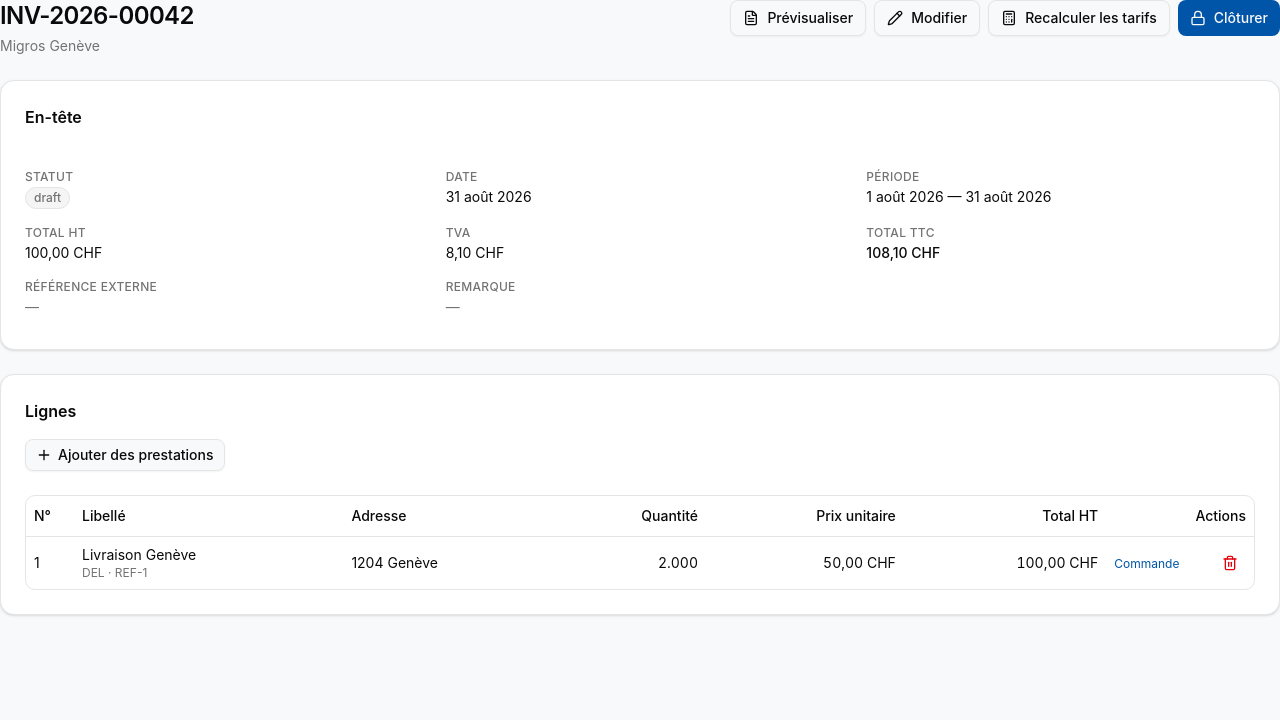
Scenario: clôture › refuse de confirmer une facture que le serveur juge non clôturable
The image size is (1280, 720).
What coordinates should you click on to do the following:
click the button "Clôturer"
I would click on:
 (1229, 18)
Its box is [1178, 0, 1279, 36].
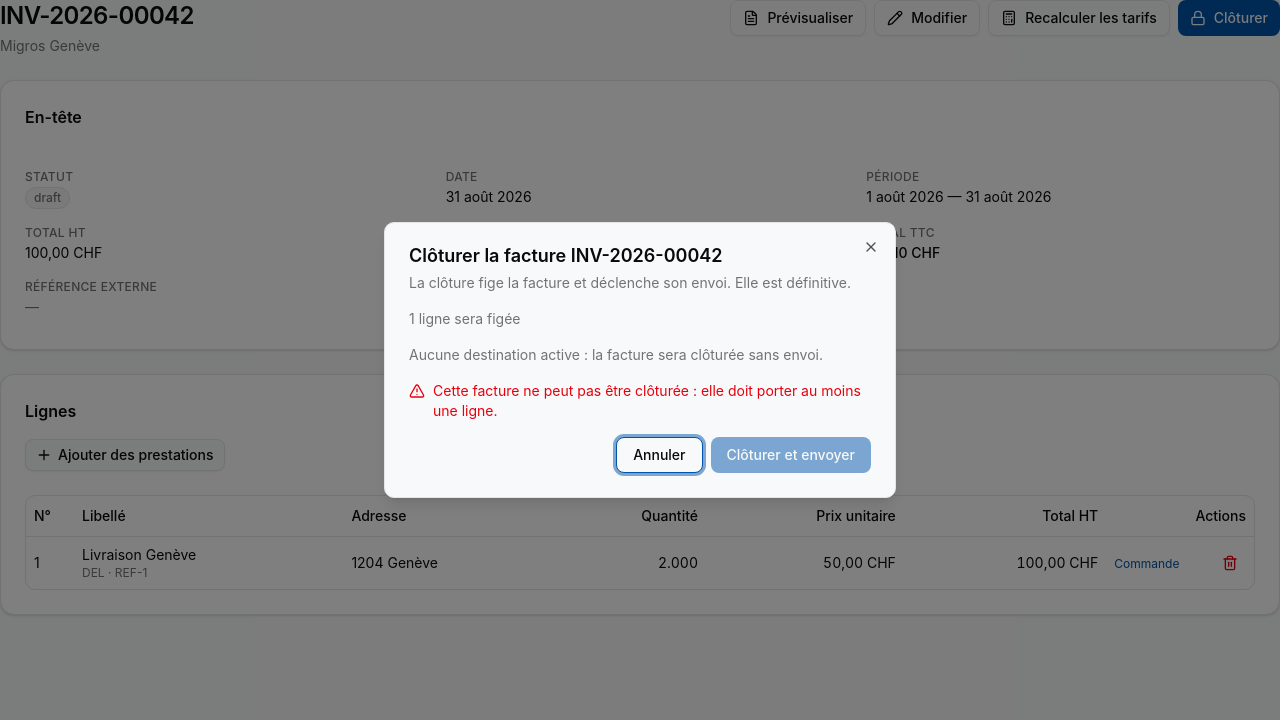
Expected: the text "au moins une ligne" is shown, [433, 382, 861, 419]
Expected: the button "Clôturer et envoyer" is disabled, [710, 437, 871, 473]
